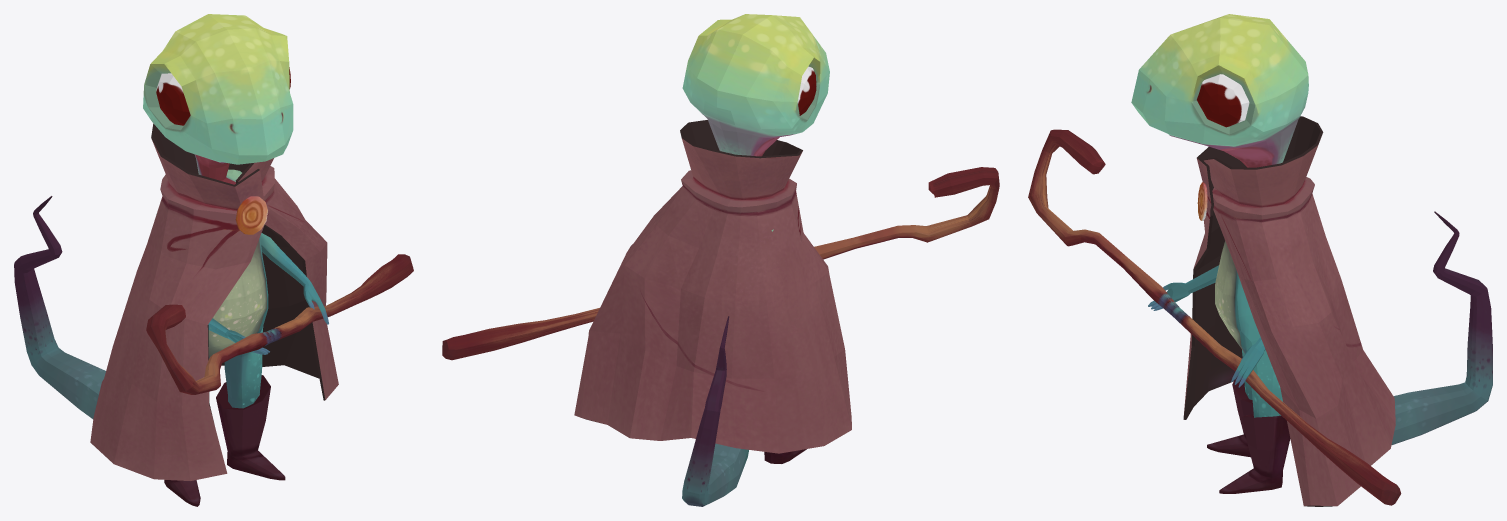
Rendered from wizard.gltf.
3 views of the same model, side by side, from view 1: azimuth 30°, elevation 25°; view 2: azimuth 150°, elevation 25°; view 3: azimuth 270°, elevation 25° (orthographic). The views are drawn at different scales.
Visible parts, largest first — view 1: body.001, body; view 2: body.001, body; view 3: body.001, body.
Boxes of the visible parts, bbox=[...] form: body.001: bbox=[90, 123, 413, 506]; body: bbox=[14, 14, 328, 419]; body.001: bbox=[442, 120, 999, 463]; body: bbox=[682, 14, 829, 506]; body.001: bbox=[1028, 116, 1401, 506]; body: bbox=[1131, 14, 1492, 444].
Size of the model in its own units: 6.86 by 6.97 by 6.55.
Materials: 2 (2 with a texture image).
